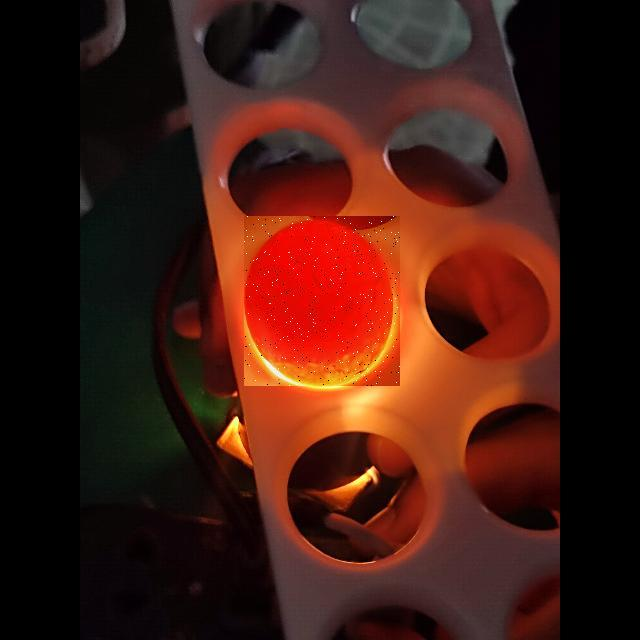Infertile: (244, 216, 400, 386)
